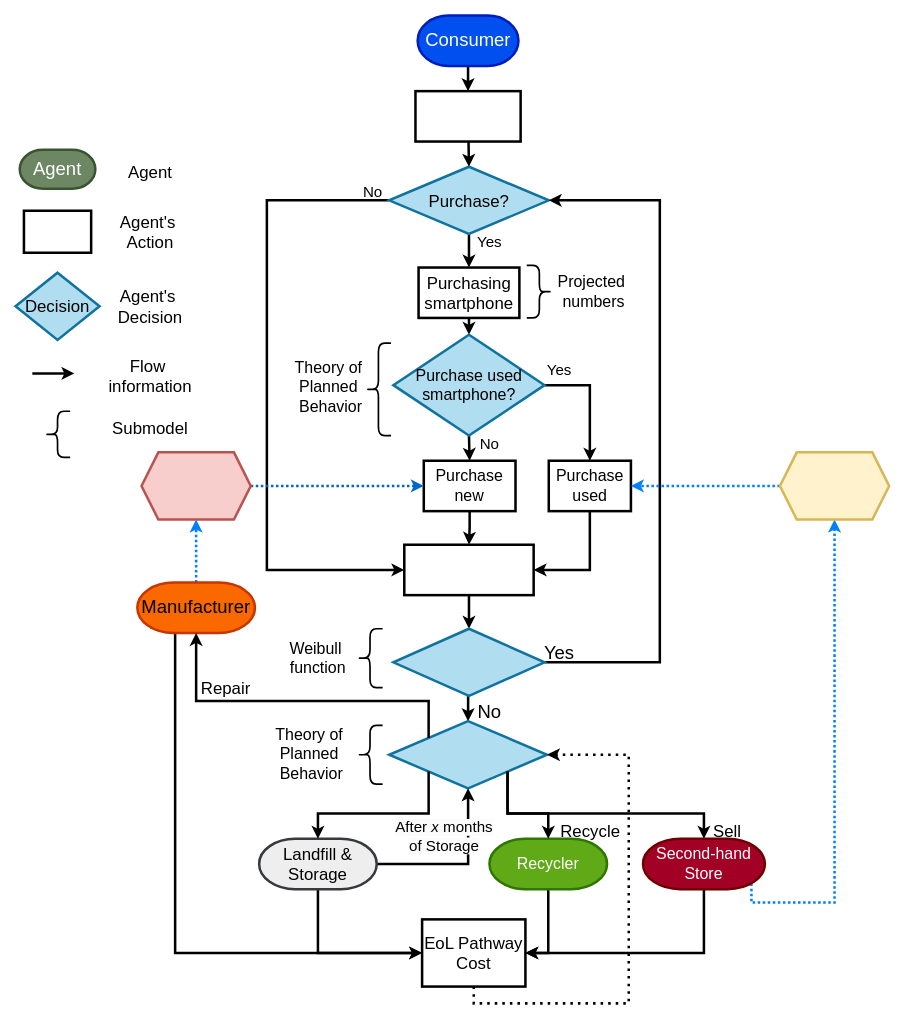
The diagram is 905 pixels wide and 1026 high, and some of its shapes have lost their labels. Each missing label, with the centre of its shape:
"Action" goes at point 57,231.
"Check Status" goes at point 467,115.
"EoL Pathway?" goes at point 467,754.
"New Product Market" goes at point 196,485.
"Use?" goes at point 468,662.
"Used Product Market" goes at point 834,485.
"Using and waste at EoL" goes at point 468,569.
